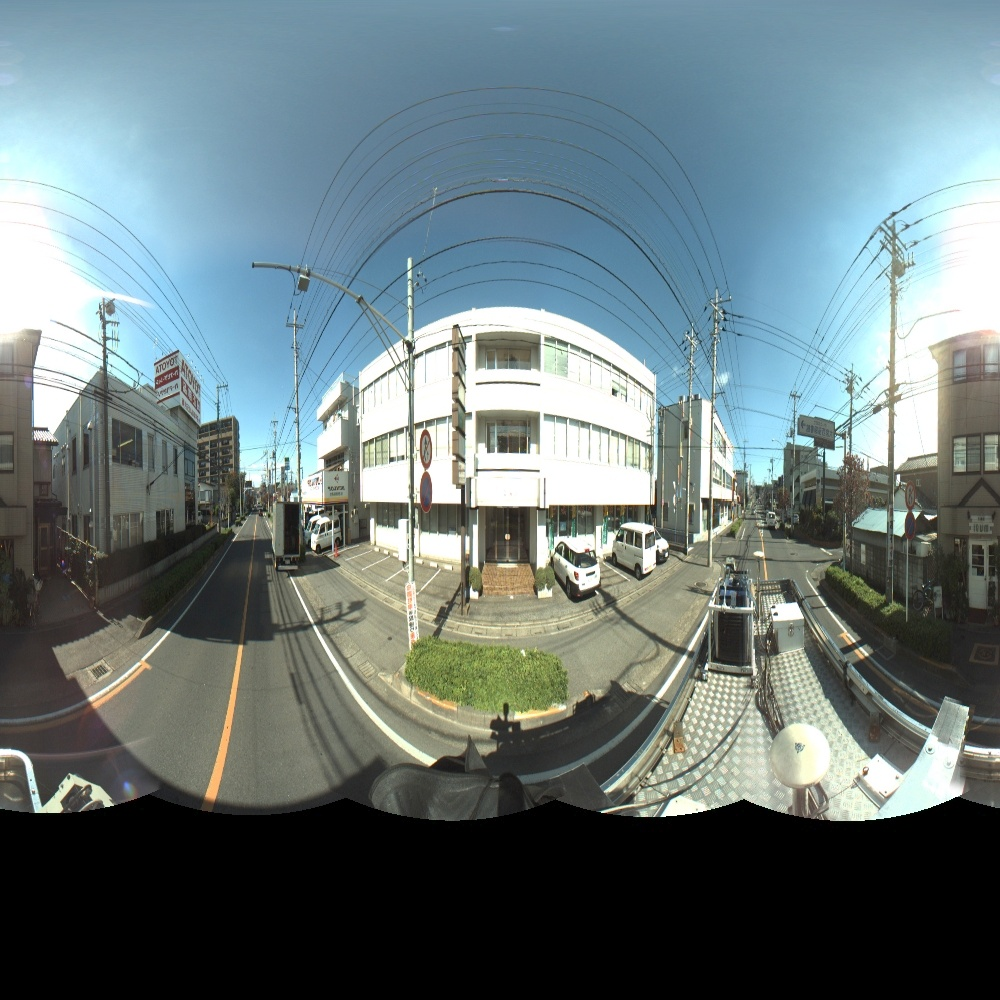car: (550, 540, 601, 597), (612, 520, 657, 577), (270, 499, 303, 571), (309, 513, 345, 553), (305, 511, 340, 546), (649, 525, 670, 563), (765, 510, 778, 531)
traffic_sign: (419, 471, 435, 513), (419, 430, 435, 469), (905, 480, 917, 511), (904, 512, 916, 542)
